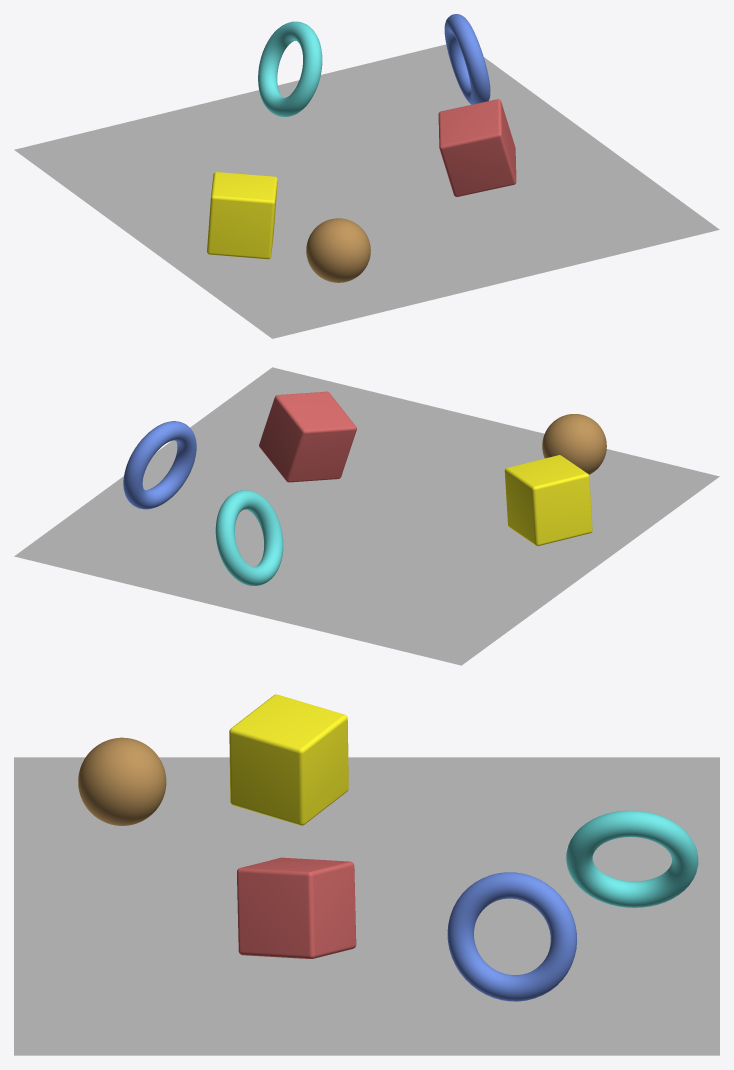
3 views of the same model, one above another, from view 1: azimuth 30°, elevation 25°; view 2: azimuth 150°, elevation 25°; view 3: azimuth 270°, elevation 25° (orthographic). The views are drawn at different scales.
Parts seen in each view (by area): view 1: Cube, FileBasedObject.001, FileBasedObject, FileBasedObject.002, FileBasedObject.004, FileBasedObject.003; view 2: Cube, FileBasedObject.001, FileBasedObject, FileBasedObject.002, FileBasedObject.003, FileBasedObject.004; view 3: Cube, FileBasedObject, FileBasedObject.001, FileBasedObject.003, FileBasedObject.002, FileBasedObject.004.
Boxes of the visible parts, x1,y1,x2,y2 form: Cube: [14, 44, 719, 338]; FileBasedObject.001: [438, 99, 516, 196]; FileBasedObject: [207, 172, 277, 259]; FileBasedObject.002: [258, 21, 322, 116]; FileBasedObject.004: [306, 218, 370, 282]; FileBasedObject.003: [444, 14, 490, 104]; Cube: [14, 367, 719, 665]; FileBasedObject.001: [259, 391, 356, 482]; FileBasedObject: [504, 455, 592, 546]; FileBasedObject.002: [215, 490, 283, 585]; FileBasedObject.003: [123, 421, 196, 509]; FileBasedObject.004: [542, 414, 606, 474]; Cube: [14, 757, 719, 1055]; FileBasedObject: [229, 694, 348, 825]; FileBasedObject.001: [237, 857, 356, 958]; FileBasedObject.003: [447, 872, 577, 1001]; FileBasedObject.002: [566, 810, 698, 907]; FileBasedObject.004: [78, 737, 166, 825].
Bounding box in the file's own units: 8 × 1.64 × 8.
